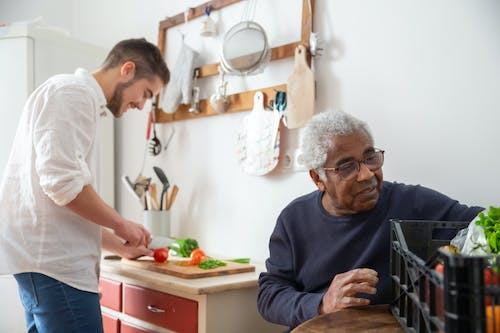knife: (145, 236, 177, 250)
